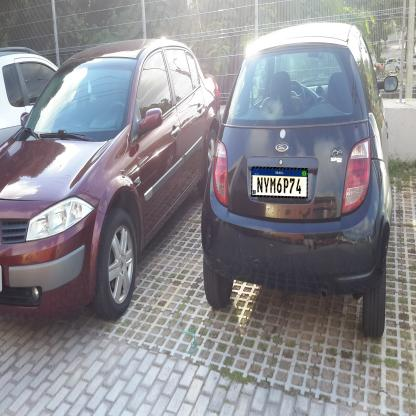PlacaM: (251, 166, 308, 198)
